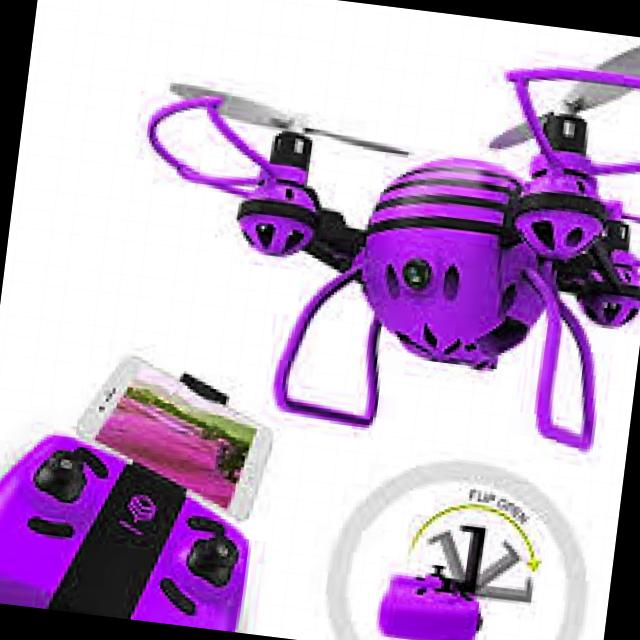drone: (100, 0, 640, 487)
